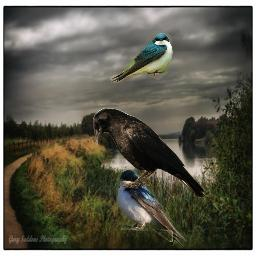Crow: (93, 108, 207, 198)
Swallow: (116, 169, 187, 250), (110, 33, 173, 83)
